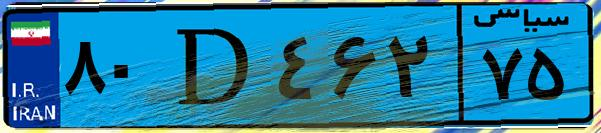0: (110, 28, 158, 98)
2: (385, 28, 445, 110)
4: (270, 28, 330, 110)
5: (525, 38, 570, 115)
6: (330, 28, 385, 110)
7: (475, 38, 525, 113)
8: (57, 26, 110, 100)
D: (158, 12, 270, 120)
